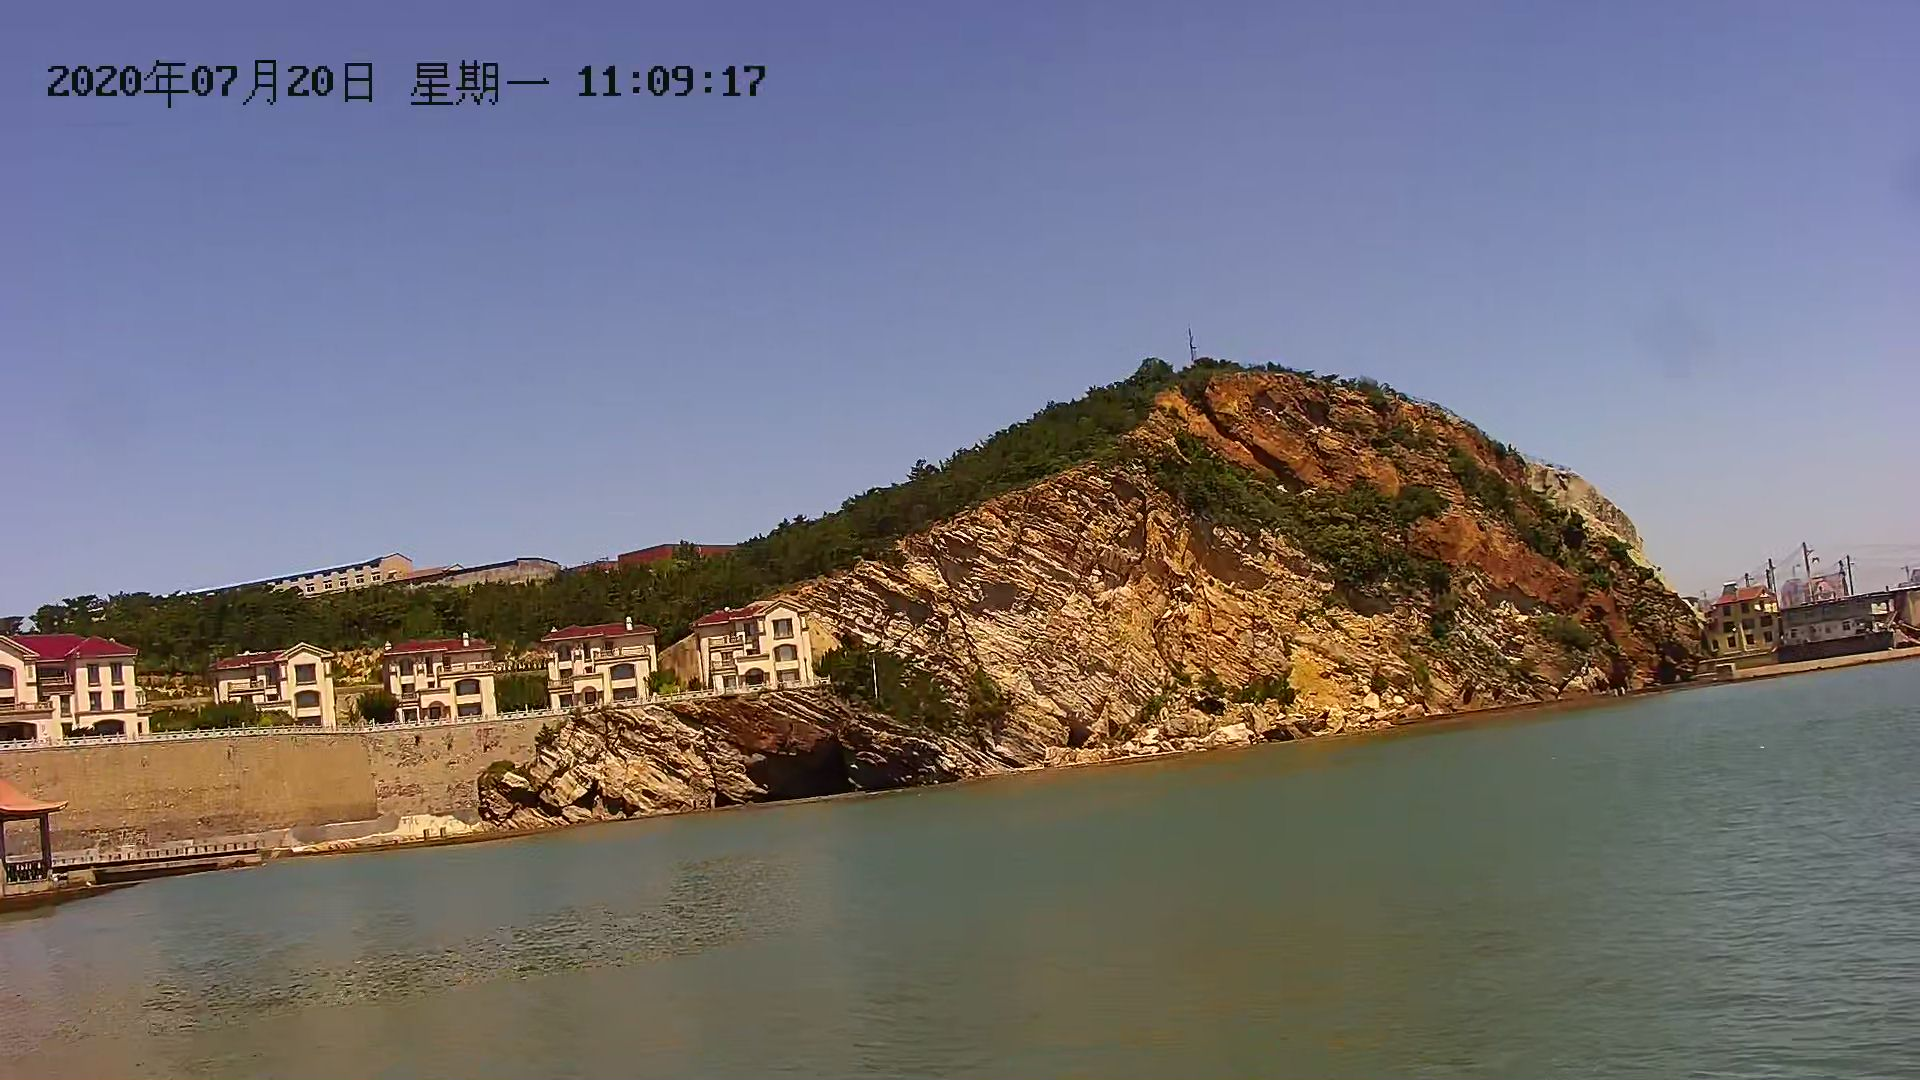harbor: (1, 785, 276, 909)
ship: (1701, 568, 1920, 686)
